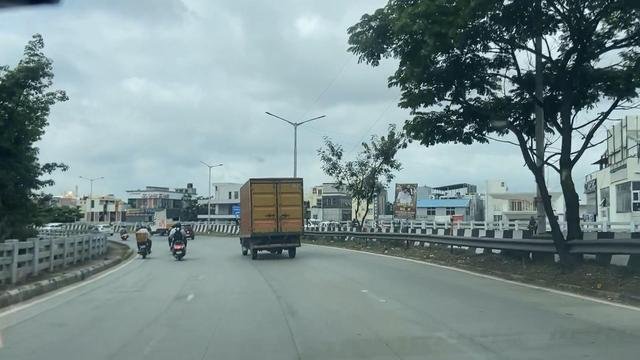HMV: (241, 179, 304, 256)
LMV: (169, 224, 187, 258), (135, 224, 150, 262)
